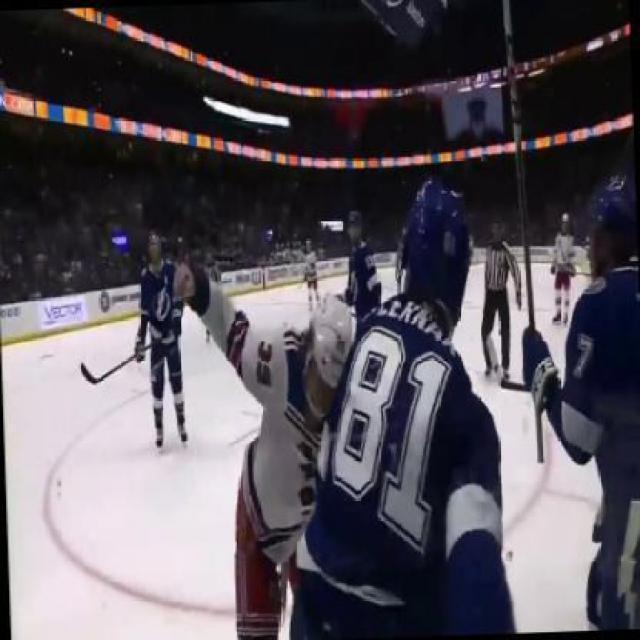fight: (166, 174, 512, 638)
